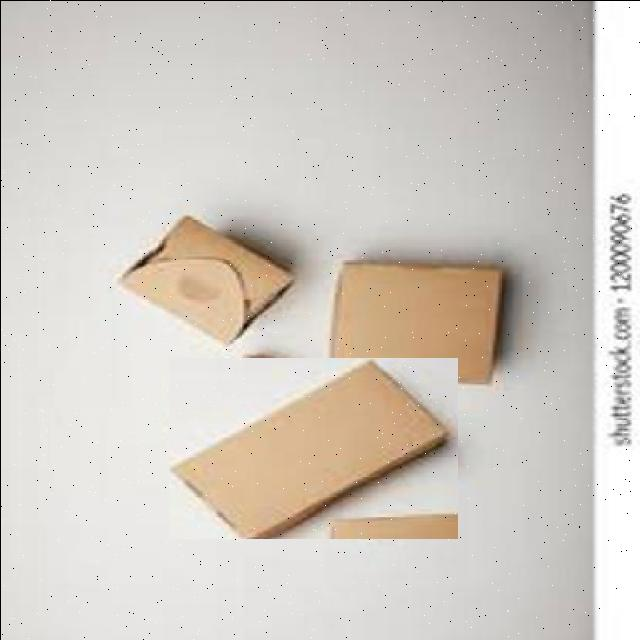normal: (168, 357, 457, 538), (329, 259, 506, 383)
